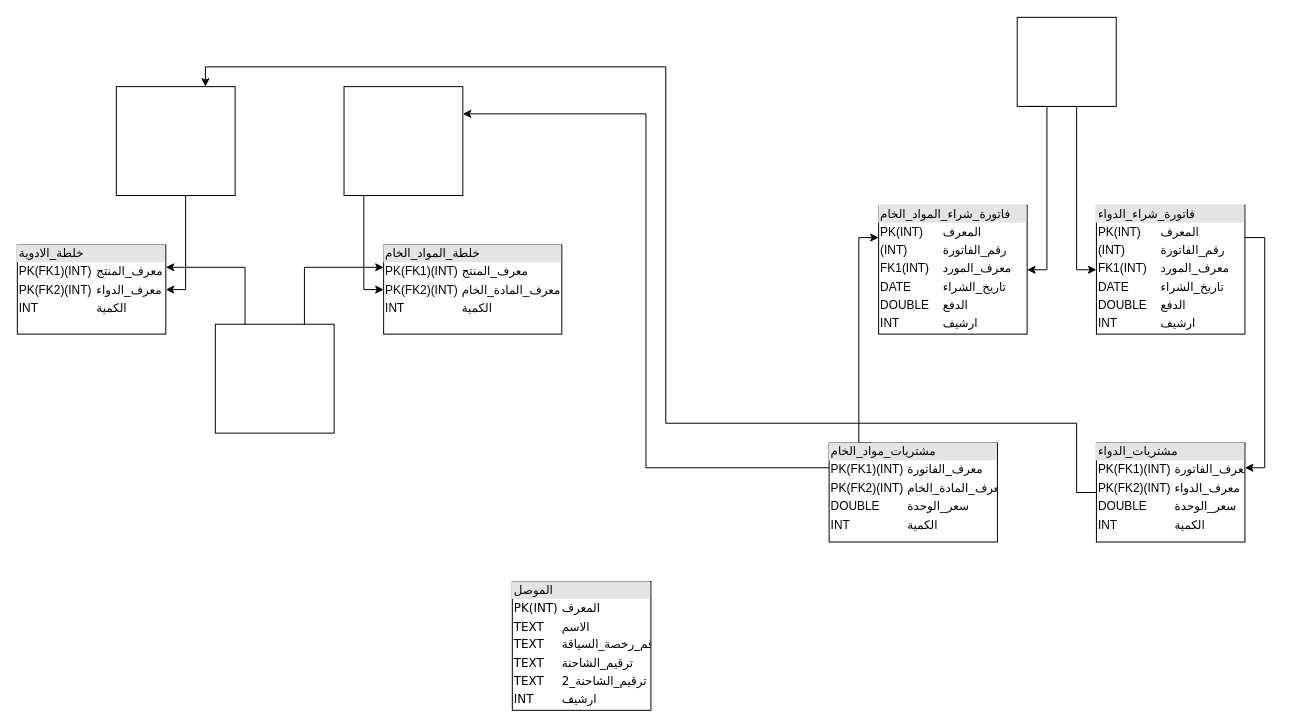
Some shapes in this 1290 by 728 pixel diagram are drawn without their labels. The shapes that lost their labels are listed below. From the top down, each one's centre as x and y in pixels, then its label:
the point at 1066,61: المورد PK(INT) المعرف TEXT الاسم TEXT العنوان INT ارشيف
the point at 175,141: الادوية PK(INT) المعرف TEXT الاسم TEXT المرجع INT اقل_كمية INT ارشيف
the point at 403,141: المواد_الخام PK(INT) المعرف TEXT الاسم TEXT المرجع INT اقل_كمية INT ارشيف
the point at 274,378: المنتجات PK(INT) المعرف TEXT الاسم TEXT المرجع INT اقل_كمية INT ارشيف
